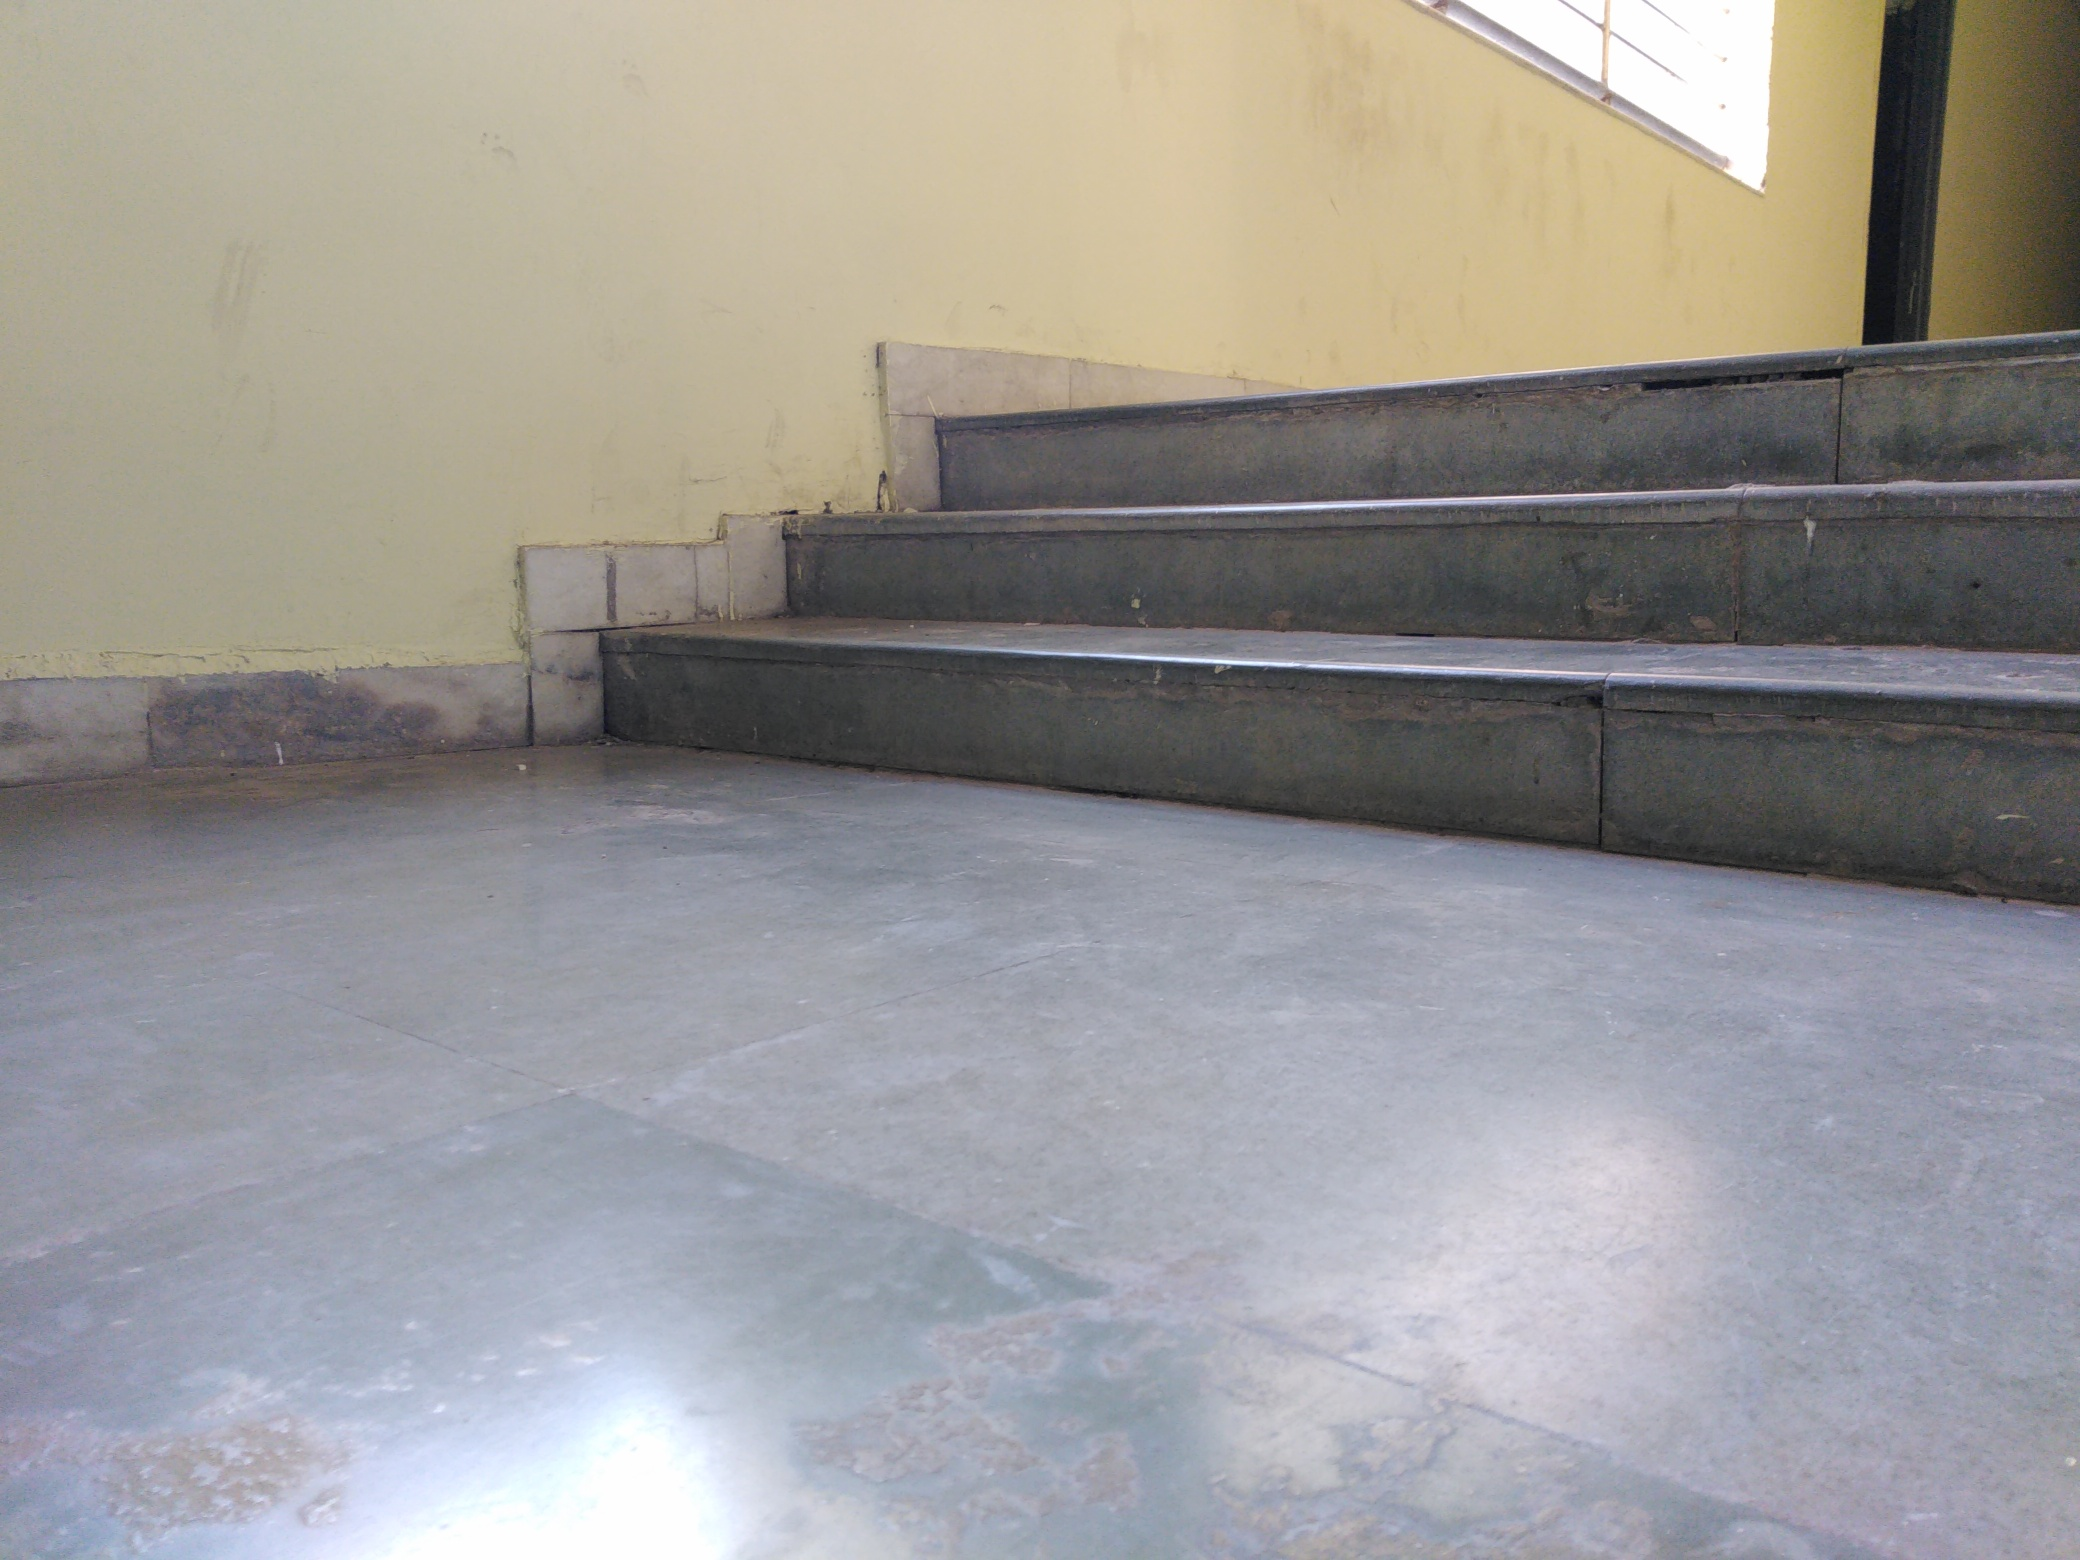stairs_up: (590, 328, 2064, 736)
